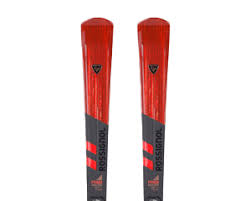skis: (78, 17, 171, 201)
